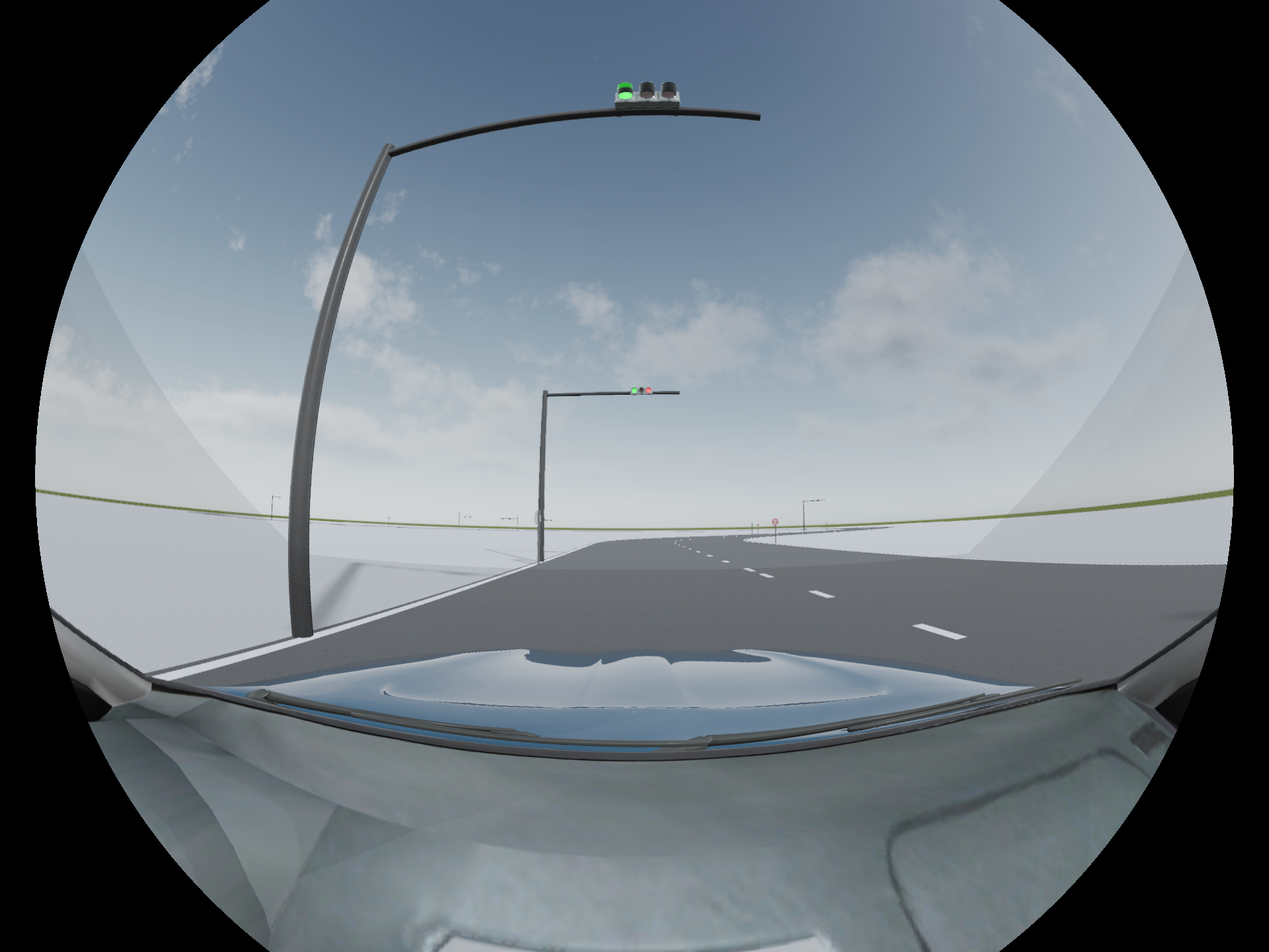Green Light: (618, 78, 683, 113)
